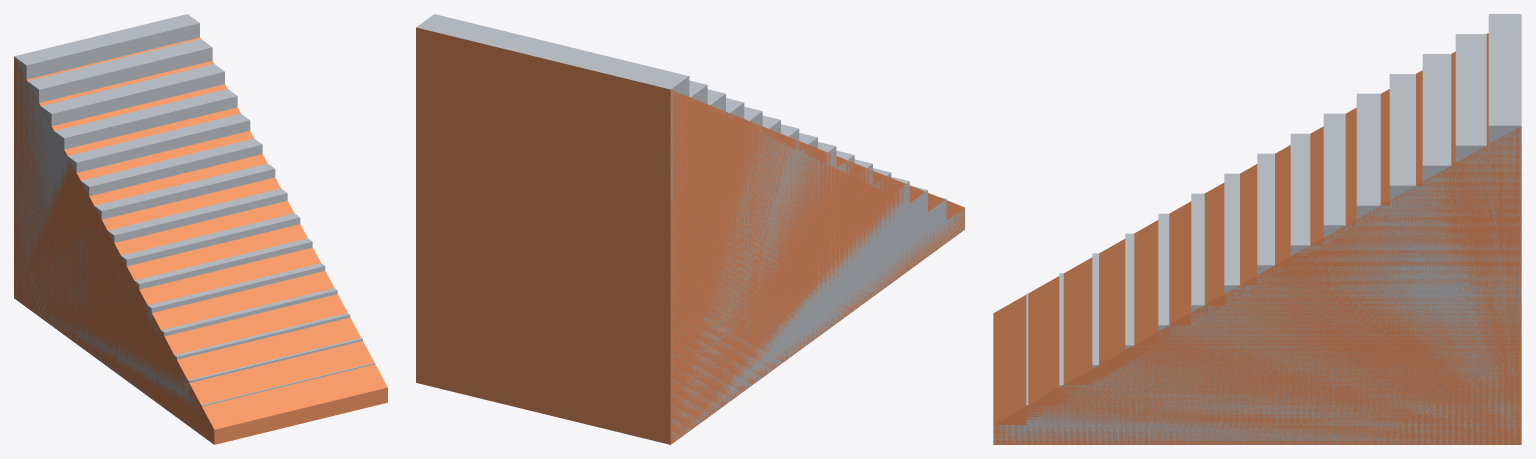
File: stair.glb
3 renders of one model, left to right at view 1: azimuth 30°, elevation 25°; view 2: azimuth 150°, elevation 25°; view 3: azimuth 270°, elevation 25°, orthographic. The views are drawn at different scales.
Visible parts, largest first — view 1: COL_stair_ramp, stair_treads; view 2: COL_stair_ramp, stair_treads; view 3: COL_stair_ramp, stair_treads.
Part boxes in pixels (x1,y1,x2,y2): COL_stair_ramp: (14, 37, 387, 444); stair_treads: (14, 14, 375, 443); COL_stair_ramp: (416, 27, 964, 444); stair_treads: (416, 14, 964, 442); COL_stair_ramp: (993, 33, 1521, 444); stair_treads: (993, 14, 1521, 444).
Size of the model in its own units: 1.68 by 2.24 by 3.36.
